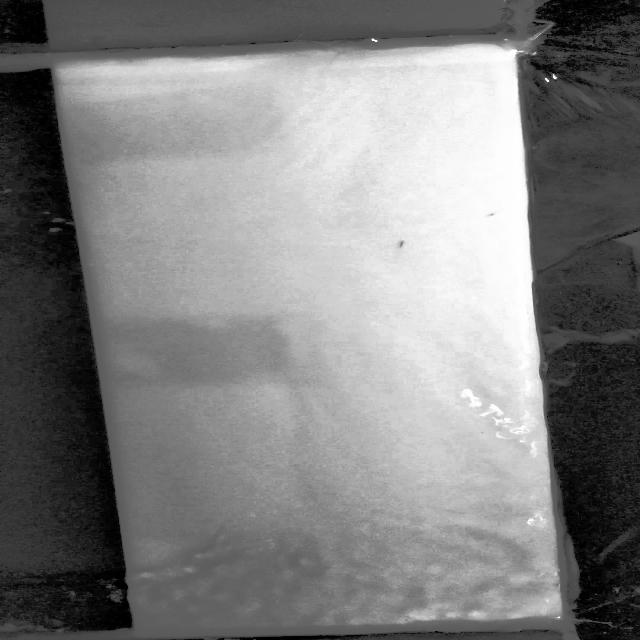shrimp: (387, 236, 424, 255), (481, 206, 502, 219)
